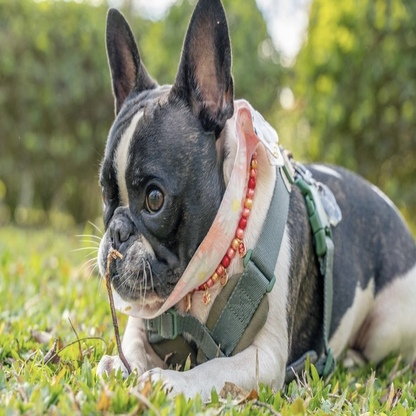bulldog: (86, 1, 415, 409)
